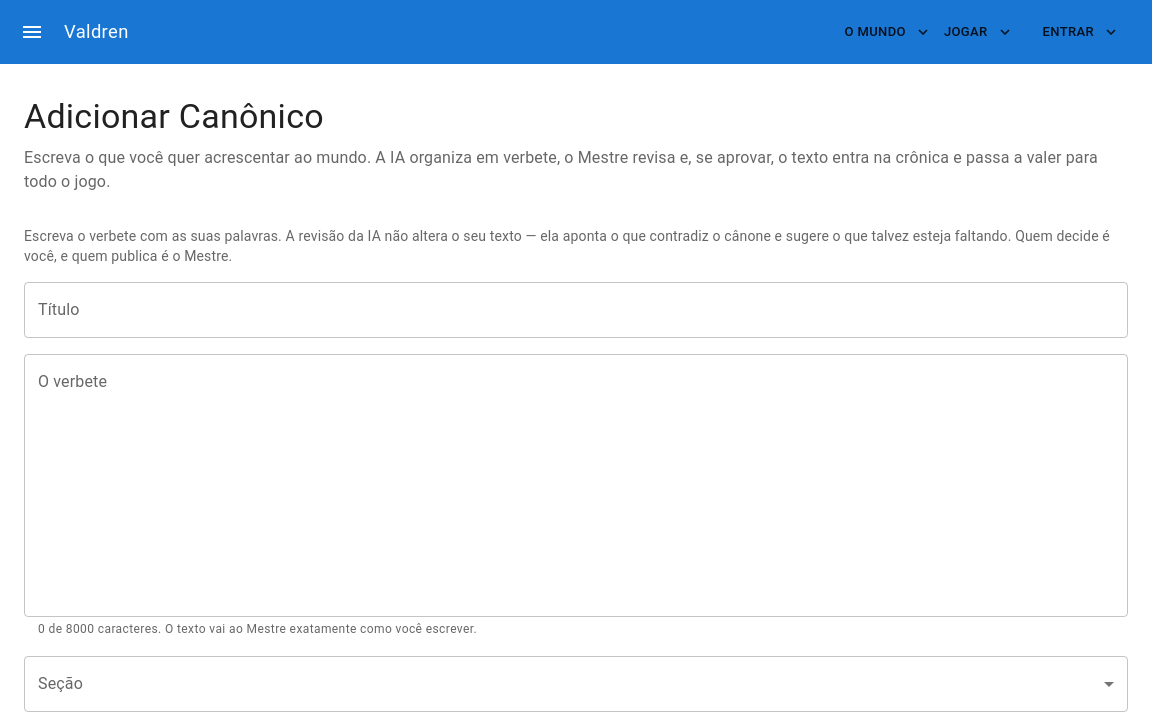
it: CanonicoPage › refreshes the list after a successful submission through the form
Type "Bram, o ferreiro de Vargen" into the field labelled "Título" at {"x": 576, "y": 310}, box [24,282,1128,338]
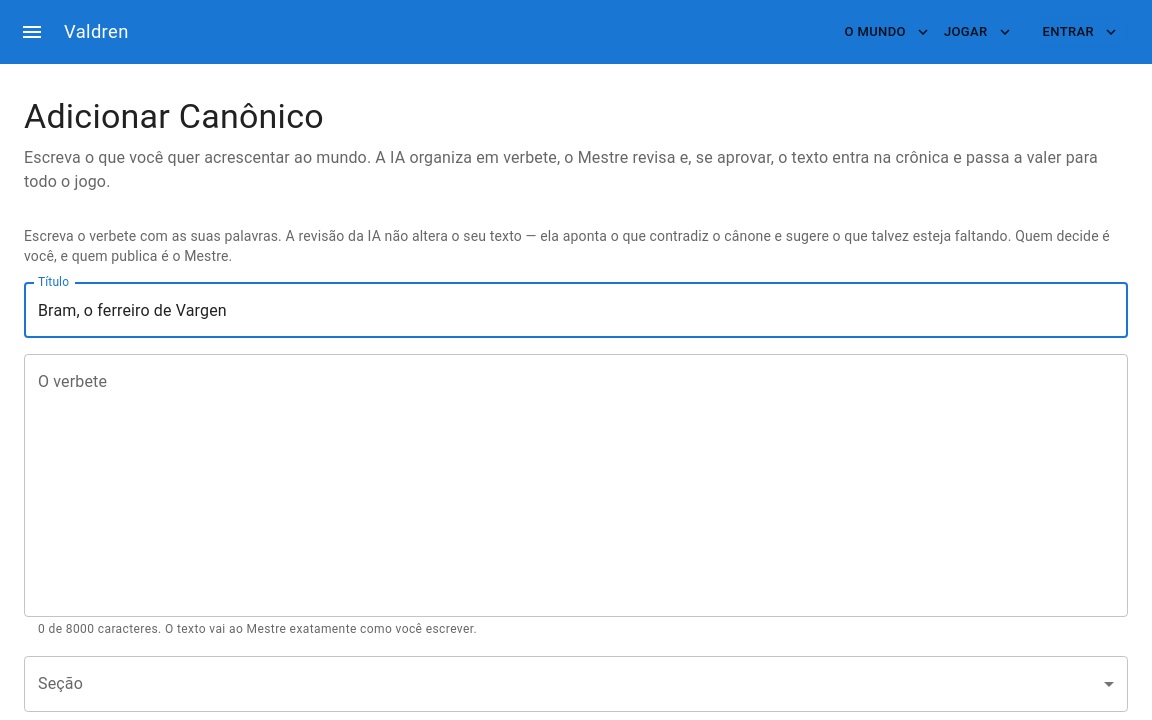
Type "Bram, o ferreiro de Vargen." into the text box labelled "O verbete" at {"x": 576, "y": 486}, box [38,370,1114,600]
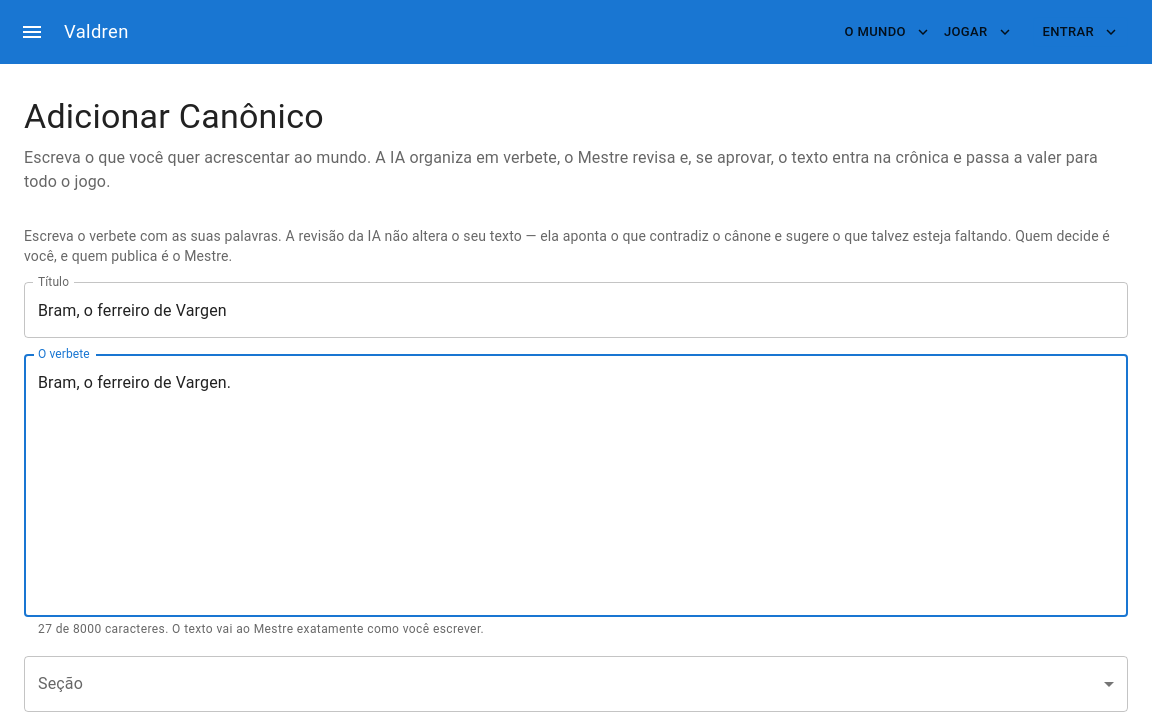
Click the dropdown named "seção" at {"x": 576, "y": 684}, box [24,656,1128,712]
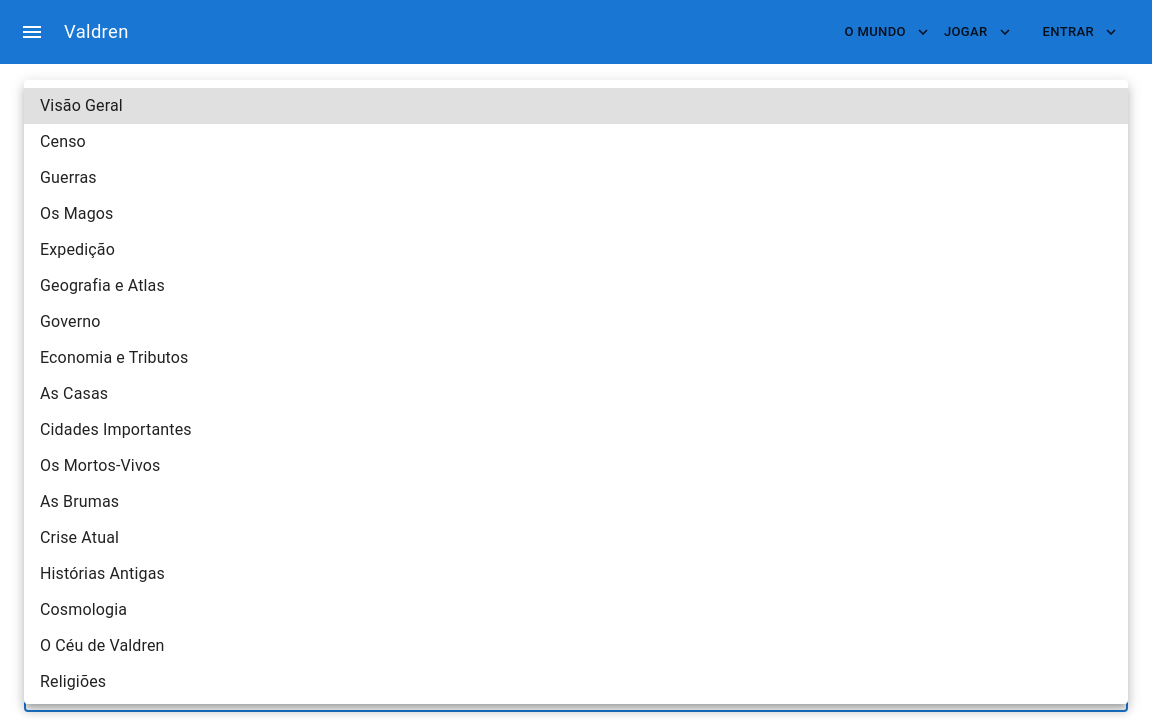
Click the option "As Casas" at {"x": 74, "y": 394}, box [40,384,108,403]
(page scrolled)
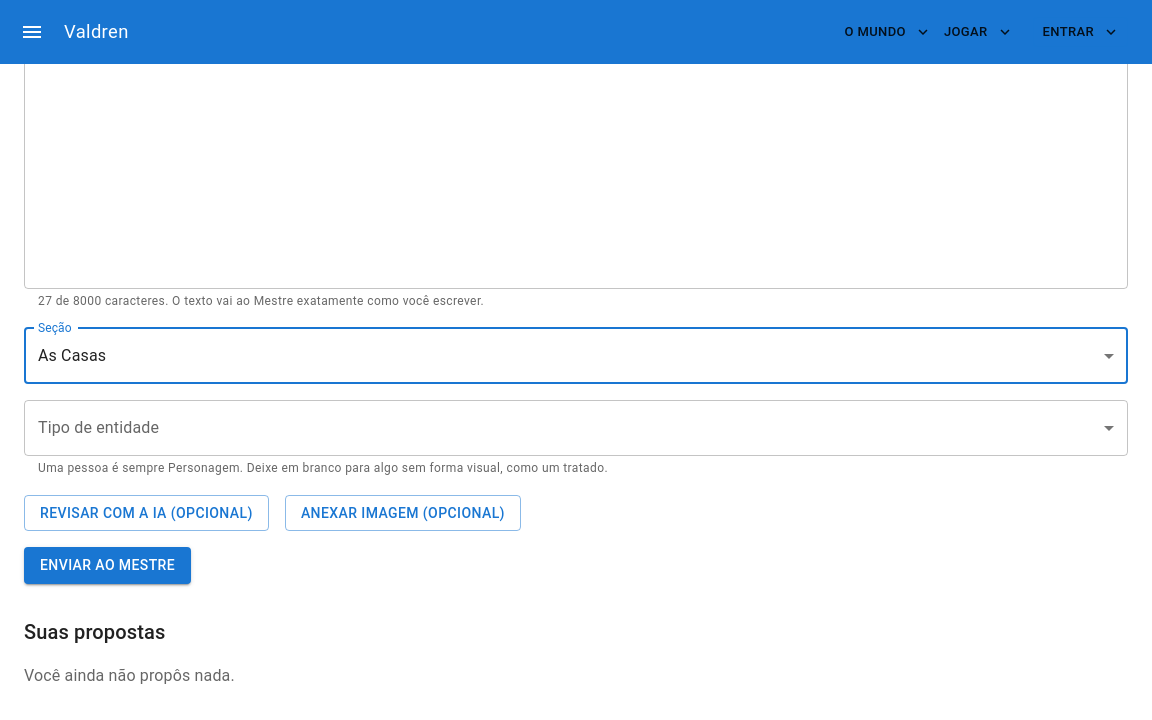
Click the button "Enviar ao Mestre" at {"x": 108, "y": 566}, box [24,547,191,584]
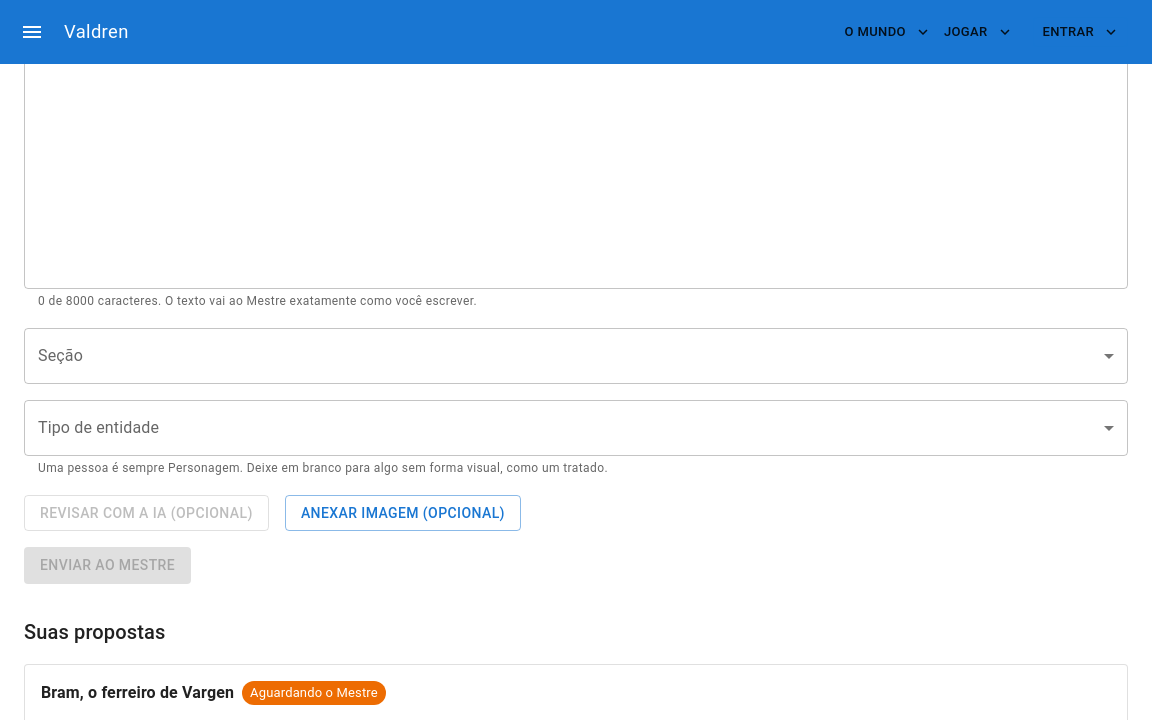
Expected: the text "Aguardando o Mestre" is shown, [242,683,386,703]
Expected: the text "Bram, o ferreiro de Vargen" is shown, [41,681,234,705]
Expected: the text "Você ainda não propôs nada." is gone
